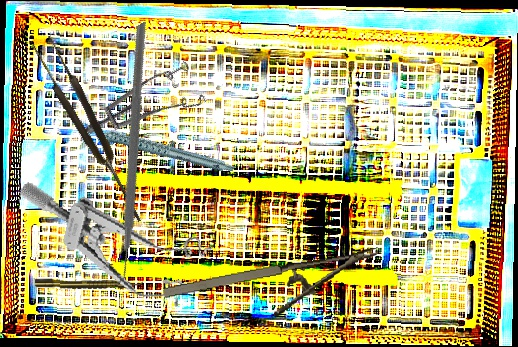Chopper: (1, 21, 248, 292)
Handpiece: (81, 92, 236, 202), (34, 278, 144, 290)
Needle Holder: (162, 247, 386, 333)
Speculum: (2, 181, 218, 312), (84, 39, 218, 178)
Tissue Forceps: (30, 33, 150, 229)
